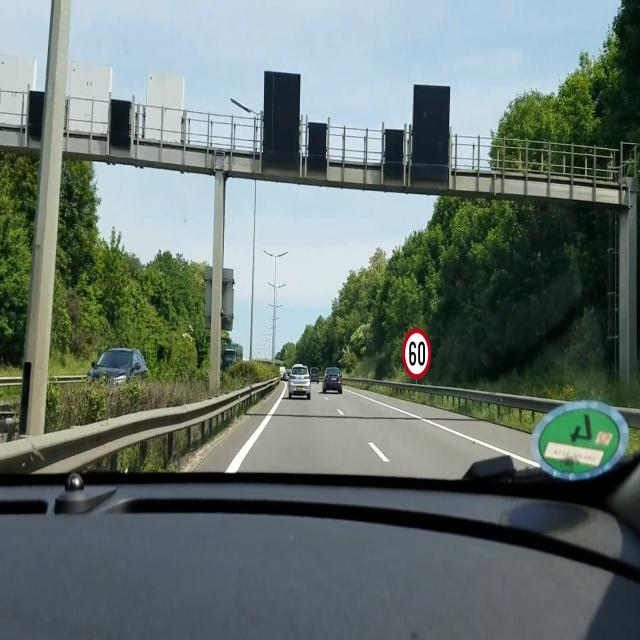speed60: (394, 301, 466, 409)
